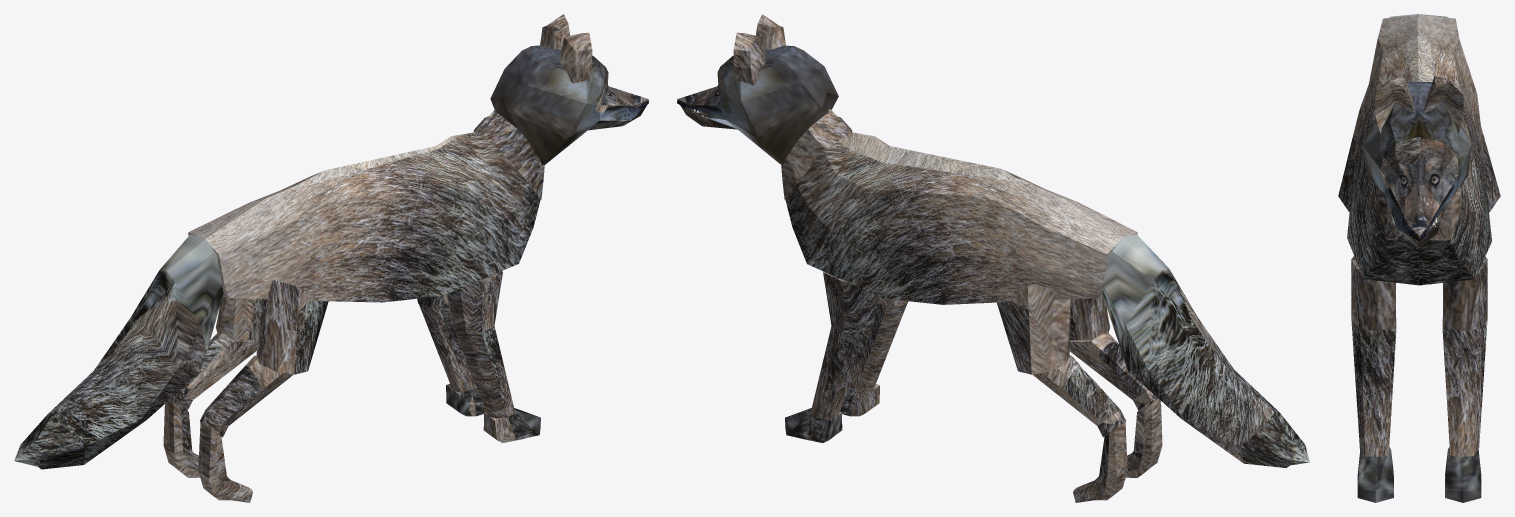
The model's file is Wolf.fbx.
3 views of the same model, side by side, from view 1: azimuth 30°, elevation 25°; view 2: azimuth 150°, elevation 25°; view 3: azimuth 270°, elevation 25° (orthographic). The views are drawn at different scales.
Visible parts, largest first — view 1: Torso, Tail, Head, Behind Upper Legs right, Front Lower Legs right, Behind Lower Legs right, Front Upper Legs right, Behind Lower Legs left, Neck, Front Lower Legs left, Right Back Paw, Ears (+4 smaller); view 2: Torso, Tail, Head, Behind Upper Legs left, Front Lower Legs left, Behind Lower Legs left, Behind Lower Legs right, Neck, Front Upper Legs left, Front Lower Legs right, Left Back Paw, Ears (+4 smaller); view 3: Torso, Head, Front Lower Legs left, Front Lower Legs right, Ears, Front Upper Legs right, Front Upper Legs left, Right Front Paw, Left Front Paw, Neck, Behind Upper Legs right, Behind Upper Legs left (+1 smaller).
Boxes of the visible parts, x1,y1,x2,y2 form: Torso: (188,131,540,302); Tail: (14,234,223,469); Head: (490,45,648,165); Behind Upper Legs right: (256,280,328,374); Front Lower Legs right: (453,326,515,418); Behind Lower Legs right: (200,355,293,437); Front Upper Legs right: (447,271,502,332); Behind Lower Legs left: (170,332,258,410); Neck: (473,109,544,199); Front Lower Legs left: (419,303,476,392); Right Back Paw: (198,422,252,502); Ears: (540,14,592,83); Torso: (785,131,1137,304); Tail: (1102,234,1309,467); Head: (677,45,838,164); Behind Upper Legs left: (997,284,1070,374); Front Lower Legs left: (810,326,872,418); Behind Lower Legs left: (1032,355,1125,437); Behind Lower Legs right: (1069,332,1157,410); Neck: (781,109,852,199); Front Upper Legs left: (823,271,878,332); Front Lower Legs right: (849,303,906,392); Left Back Paw: (1073,422,1127,502); Ears: (733,14,785,85); Torso: (1347,15,1491,285); Head: (1363,81,1471,241); Front Lower Legs left: (1442,317,1487,456); Front Lower Legs right: (1351,317,1396,456); Ears: (1375,76,1463,134); Front Upper Legs right: (1351,256,1395,331); Front Upper Legs left: (1443,256,1487,331); Right Front Paw: (1445,446,1481,502); Left Front Paw: (1357,446,1393,502); Neck: (1376,187,1462,240); Behind Upper Legs right: (1338,86,1368,211); Behind Upper Legs left: (1481,126,1500,212).
Size of the model in its own units: 591 by 337 by 109.
Materials: 1 (1 with a texture image).
